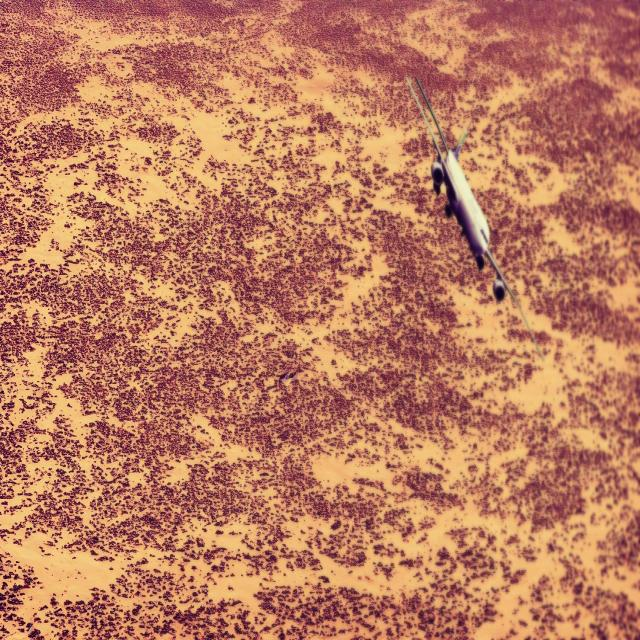airplane: (406, 75, 544, 362)
